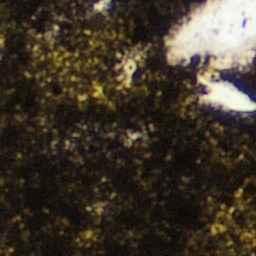cement_matrix: (0, 0, 255, 255), (217, 57, 255, 102), (120, 55, 137, 84)
gravel_crushed_stones: (167, 0, 255, 113), (121, 56, 136, 83), (96, 0, 106, 10)
